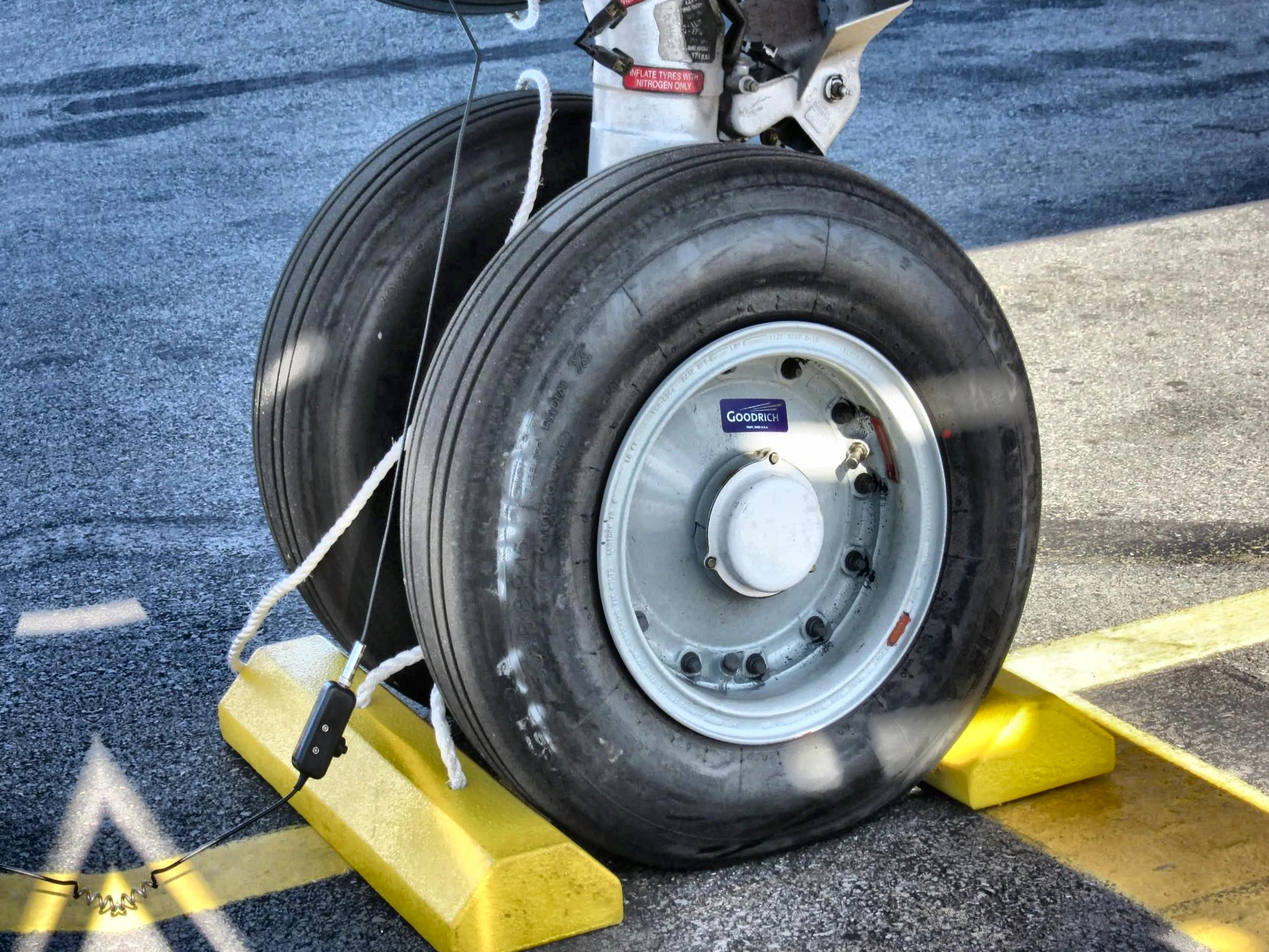chock: (204, 577, 632, 952), (773, 511, 1123, 826)
wheel: (359, 106, 1089, 891), (217, 82, 649, 690)
